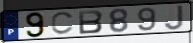8: (107, 8, 130, 34)
9: (24, 11, 47, 38), (135, 7, 158, 32)
B: (78, 9, 105, 35)
C: (50, 10, 76, 36)
J: (163, 4, 185, 31)
